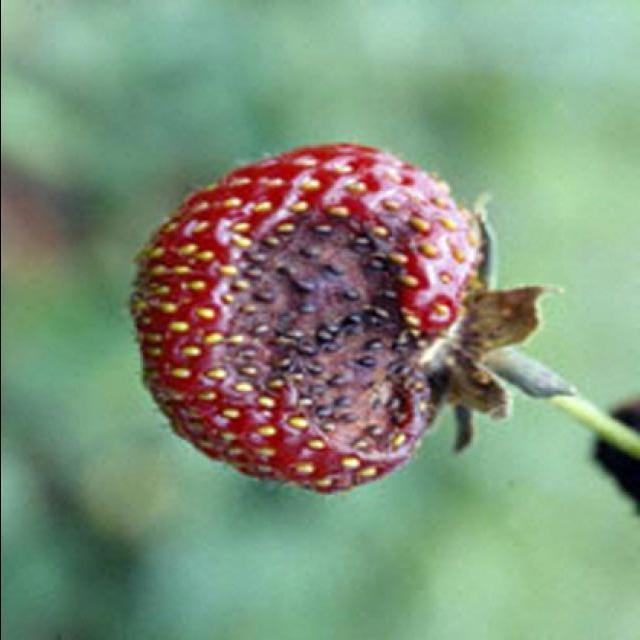Anthracnose Fruit Rot: (125, 141, 508, 495)
